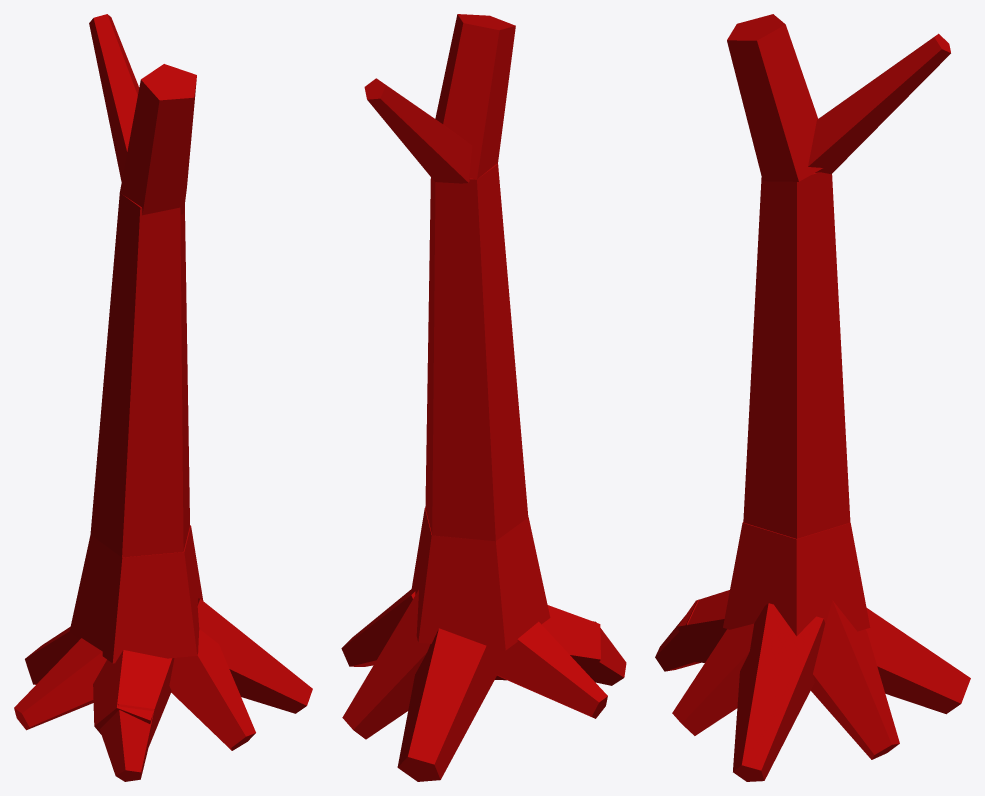
File: SM_Env_Tree_Forest_01_Collision.gltf
The picture shows the model from 3 angles, left to right: view 1: azimuth 30°, elevation 25°; view 2: azimuth 150°, elevation 25°; view 3: azimuth 270°, elevation 25°; orthographic projection. The views are drawn at different scales.
Parts seen in each view (by area): view 1: SM_Env_Tree_Forest_01_Collision; view 2: SM_Env_Tree_Forest_01_Collision; view 3: SM_Env_Tree_Forest_01_Collision.
Boxes of the visible parts, x1,y1,x2,y2 form: SM_Env_Tree_Forest_01_Collision: [14, 14, 312, 781]; SM_Env_Tree_Forest_01_Collision: [341, 14, 626, 781]; SM_Env_Tree_Forest_01_Collision: [655, 14, 970, 781].
Bounding box in the file's own units: 4.39 × 10.4 × 4.21.
